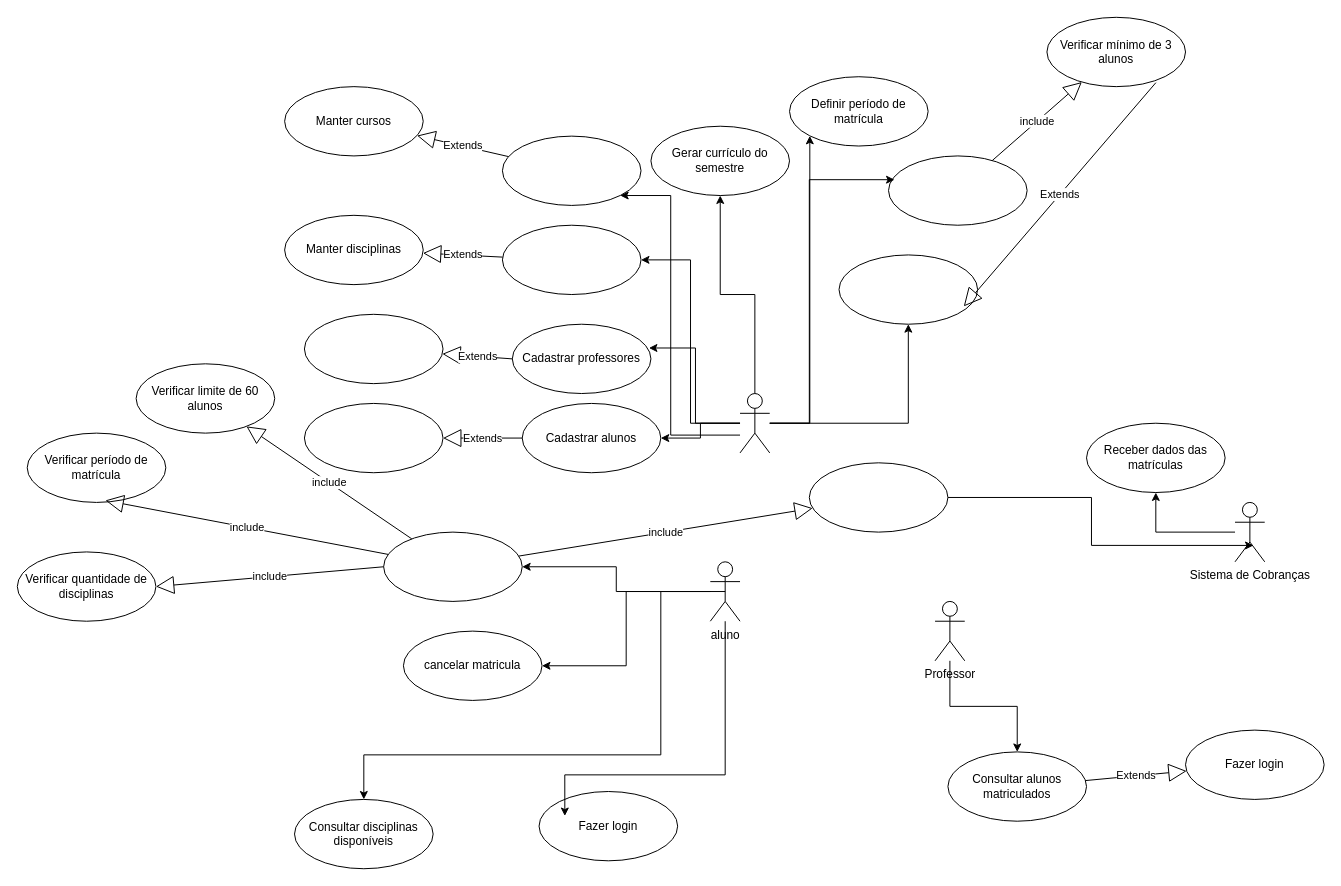
The diagram is 1341 pixels wide and 886 high, and some of its shapes have lost their labels. The shapes that lost their labels are listed below. From the top down, each one's box as (x1, y1, x2, y2) in pixels, then its label:
(501, 135, 641, 205): Cadastrar cursos
(888, 155, 1027, 225): Encerrar período de matrícula
(501, 224, 641, 295): Cadastrar disciplinas
(838, 254, 978, 324): Cancelar disciplinas com menos de 3 alunos
(303, 313, 443, 384): Manter professores
(303, 402, 443, 473): Manter alunos
(739, 393, 770, 453): secretaria
(808, 462, 948, 532): Notificar sistema de cobranças
(383, 531, 522, 601): realizar matricula
